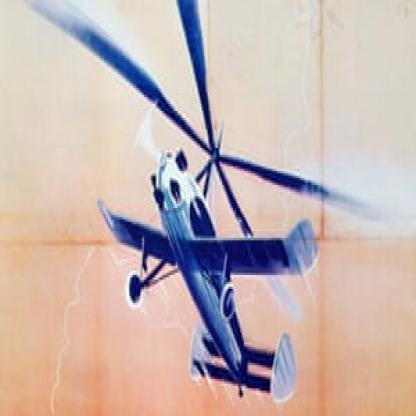CIV_Plane: (39, 0, 337, 414)
